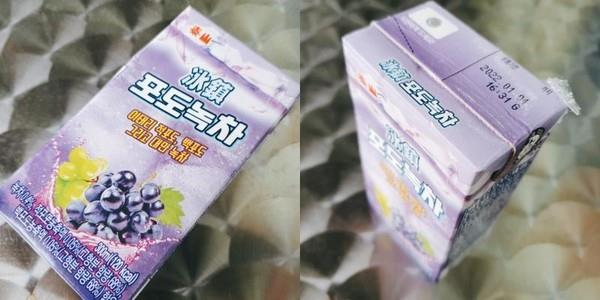鋁箔包: (2, 4, 300, 300), (339, 2, 566, 285)
